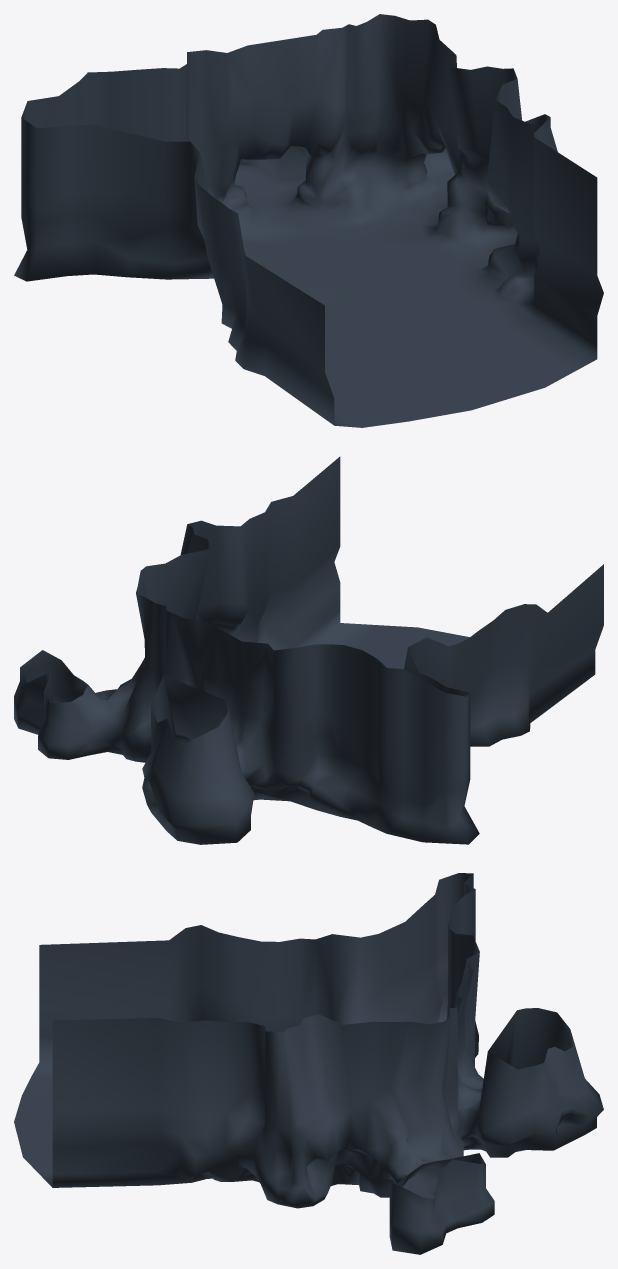
File: ts_sjkddm001.FBX
3 renders of one model, top to bottom at view 1: azimuth 30°, elevation 25°; view 2: azimuth 150°, elevation 25°; view 3: azimuth 270°, elevation 25°, orthographic. The views are drawn at different scales.
Parts seen in each view (by area): view 1: ts_sjkddm001; view 2: ts_sjkddm001; view 3: ts_sjkddm001.
Part boxes in pixels (<box>): ts_sjkddm001: <box>14,14,603,427</box>; ts_sjkddm001: <box>14,456,603,844</box>; ts_sjkddm001: <box>14,873,603,1254</box>.
Bounding box in the file's own units: 52.55 × 18.7 × 56.28.
